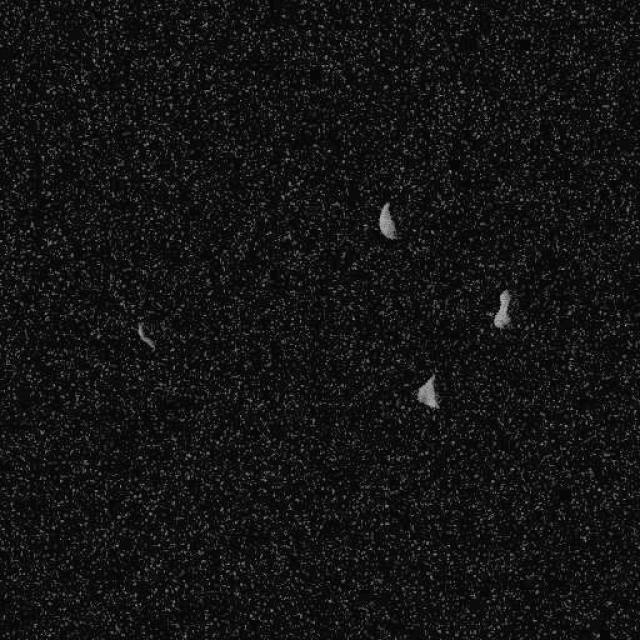D2: (415, 372, 440, 410), (377, 200, 398, 240), (492, 288, 512, 328), (135, 321, 156, 351)
